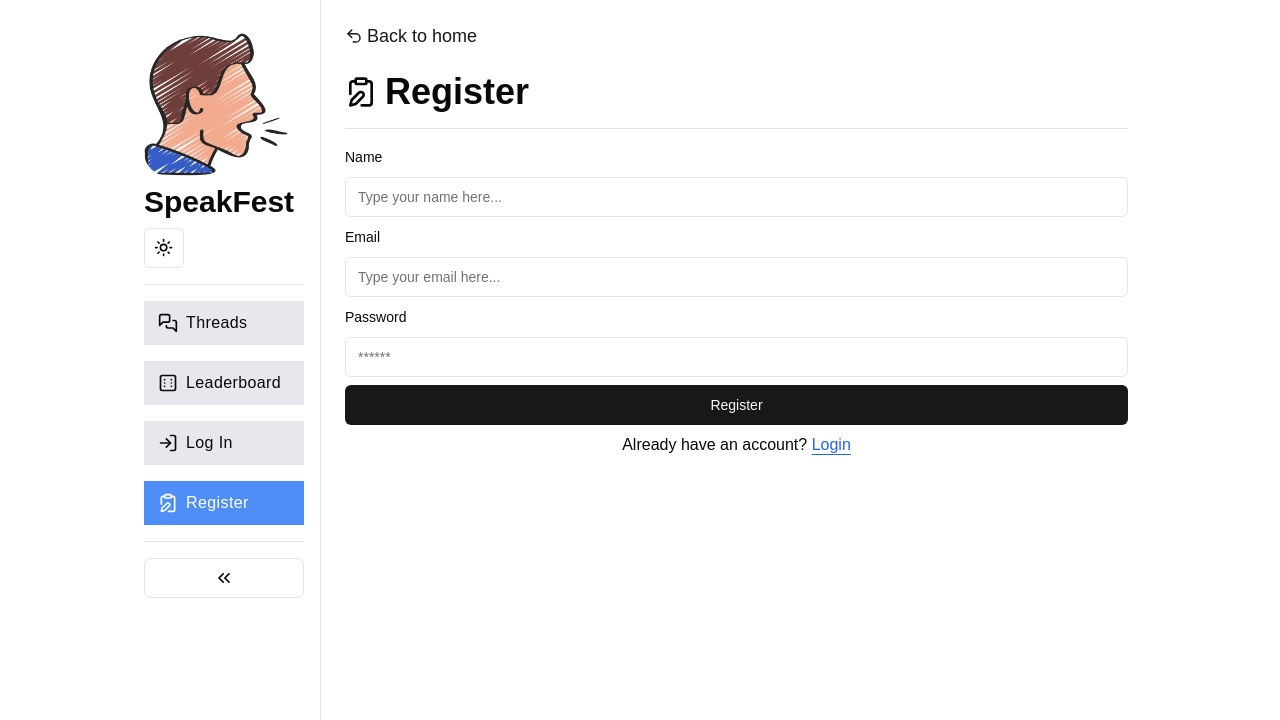
Scenario: Register spec › should display error message and disabled button register if name, email or password is empty
Click the button "Register": coordinates (737, 405) [345,385,1128,425]
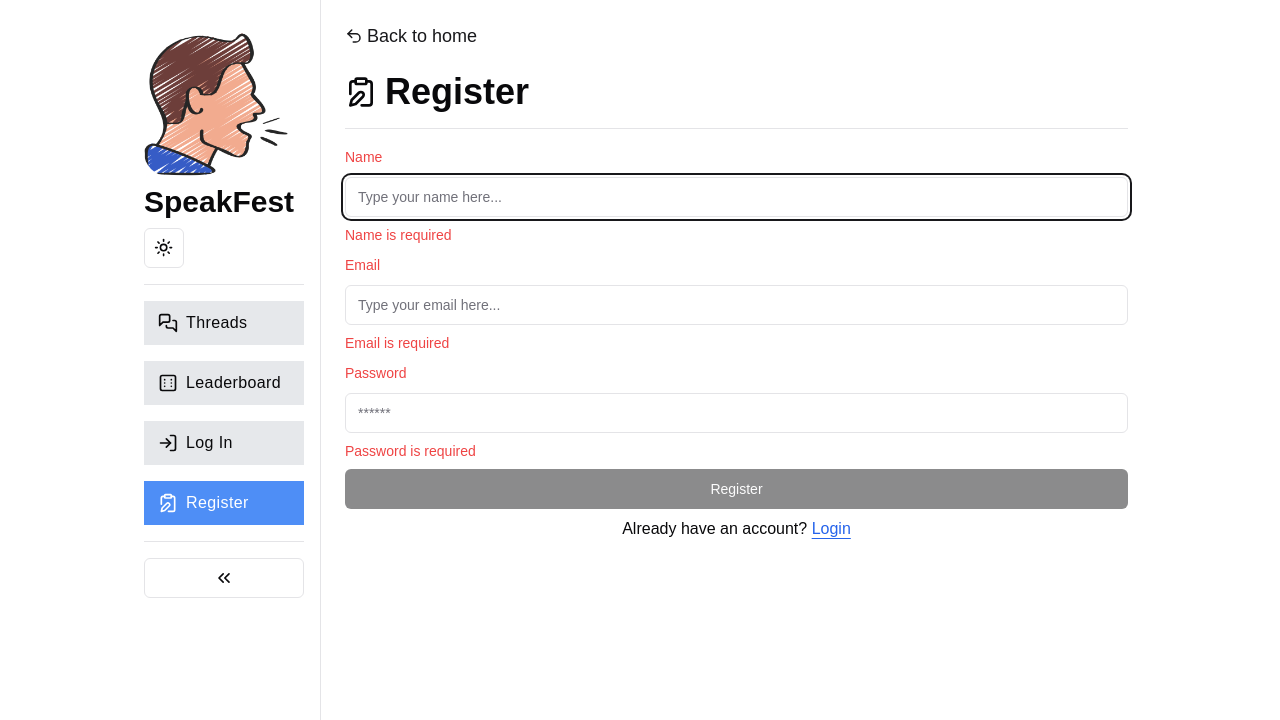
Now the text "Name is required" is shown, box [345,227,452,243]
Now the text "Email is required" is shown, box [345,335,449,351]
Now the text "Password is required" is shown, box [345,443,476,459]
